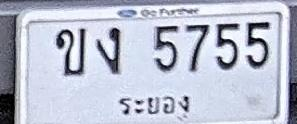5: (246, 21, 270, 69), (216, 22, 240, 70), (154, 25, 178, 72)
7: (185, 24, 209, 72)
A02: (55, 28, 86, 76)
A07: (96, 27, 120, 74)
RYG: (112, 94, 191, 117)
